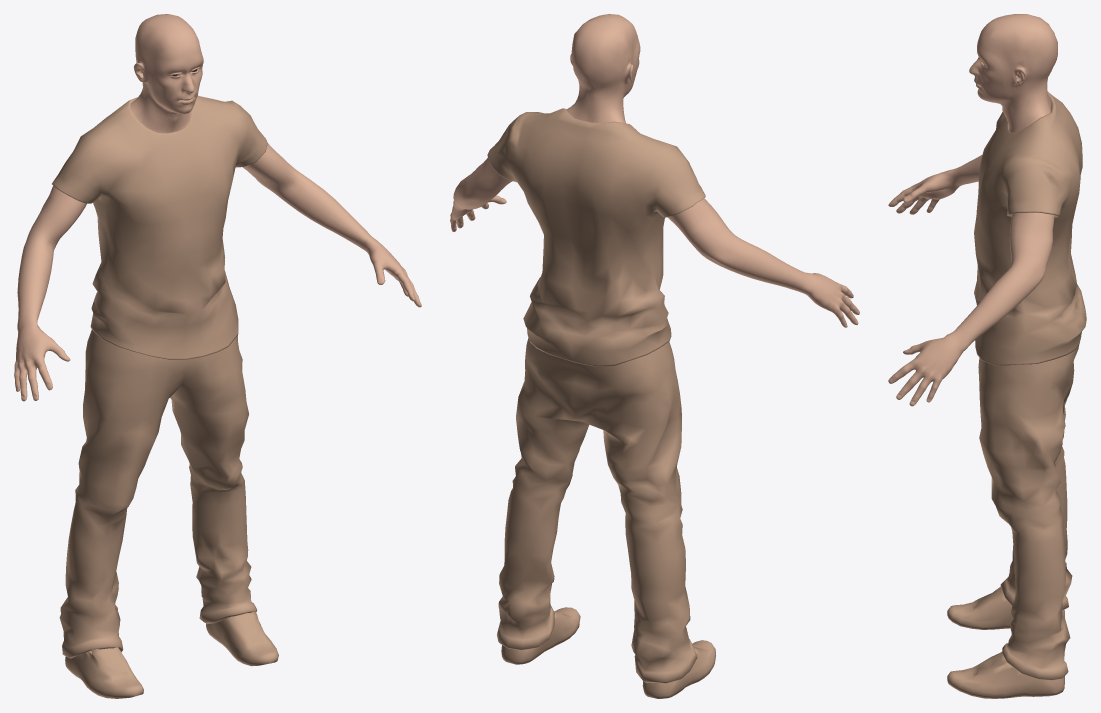
3 views of the same model, side by side, from view 1: azimuth 30°, elevation 25°; view 2: azimuth 150°, elevation 25°; view 3: azimuth 270°, elevation 25° (orthographic).
Visible parts, largest first — view 1: tshirt1, jean1, will, shoes1; view 2: jean1, tshirt1, will, shoes1; view 3: jean1, tshirt1, will, shoes1.
Boxes of the visible parts, x1=… form: tshirt1: x1=52, y1=95, x2=267, y2=359; jean1: x1=59, y1=329, x2=256, y2=658; will: x1=14, y1=14, x2=421, y2=401; shoes1: x1=65, y1=611, x2=278, y2=698; jean1: x1=497, y1=338, x2=697, y2=683; tshirt1: x1=487, y1=108, x2=705, y2=366; will: x1=450, y1=14, x2=859, y2=327; shoes1: x1=501, y1=607, x2=715, y2=698; jean1: x1=978, y1=345, x2=1078, y2=680; tshirt1: x1=974, y1=92, x2=1086, y2=365; will: x1=888, y1=14, x2=1057, y2=406; shoes1: x1=947, y1=587, x2=1064, y2=698.
Size of the model in its own units: 114 by 175 by 49.32.
